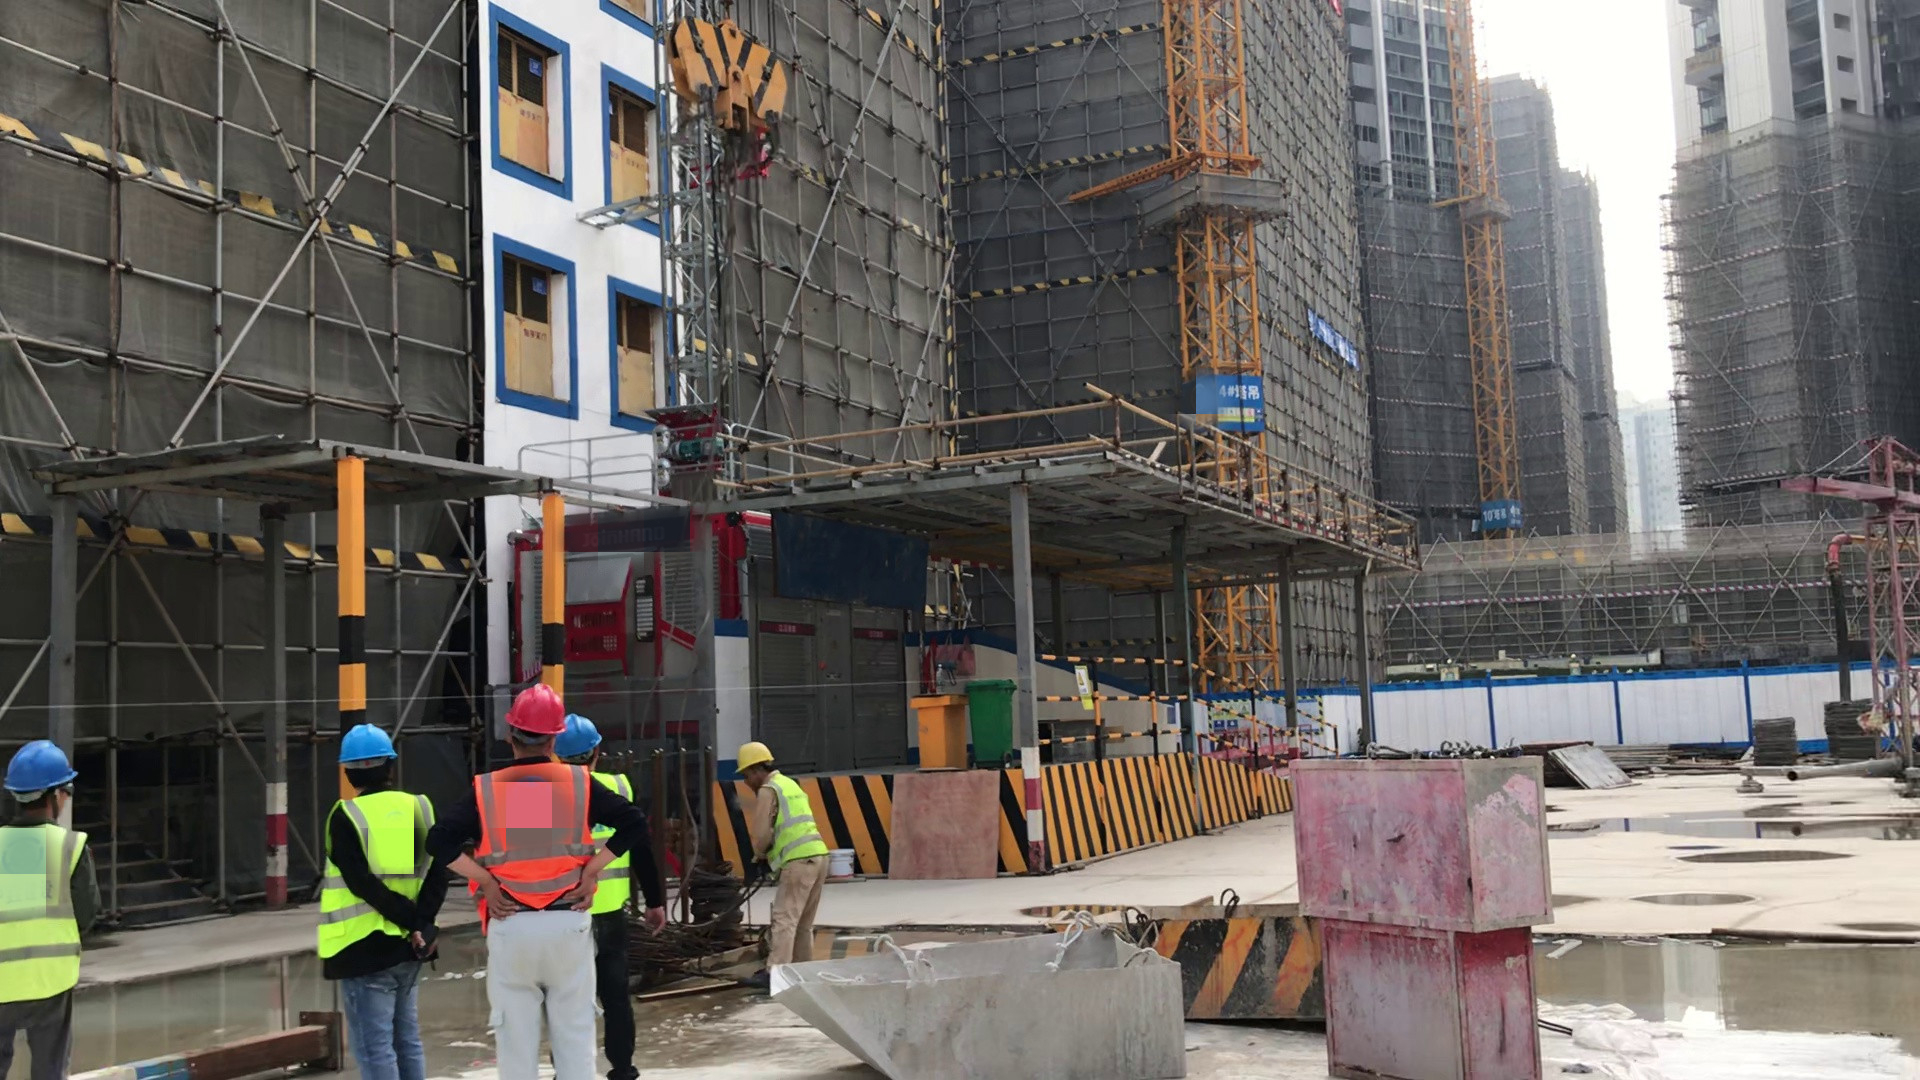helmet: (501, 675, 572, 743), (326, 713, 413, 768), (5, 735, 79, 795), (562, 713, 606, 756), (733, 737, 782, 775)
person: (457, 680, 615, 1080), (332, 726, 455, 1080), (7, 720, 110, 1080), (567, 706, 652, 1080), (725, 716, 834, 992)
vest: (320, 793, 442, 975), (465, 764, 592, 921), (4, 821, 96, 1004), (753, 776, 832, 868), (593, 768, 628, 927)
